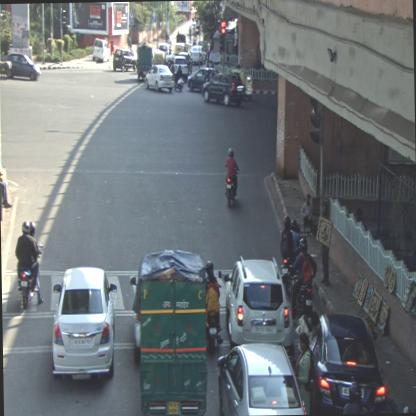car: (50, 263, 119, 390), (310, 312, 386, 414), (218, 340, 312, 415), (223, 253, 294, 350), (202, 72, 244, 106), (4, 52, 42, 82), (144, 63, 175, 96), (186, 68, 221, 94), (112, 47, 137, 74), (91, 37, 109, 65), (172, 54, 188, 81), (189, 43, 206, 63)
motorcycle: (14, 218, 45, 312), (291, 236, 318, 323), (204, 259, 222, 355), (280, 213, 302, 289), (223, 144, 240, 209), (402, 376, 415, 412), (174, 66, 186, 96)
truck: (137, 246, 210, 415), (138, 40, 152, 82)
